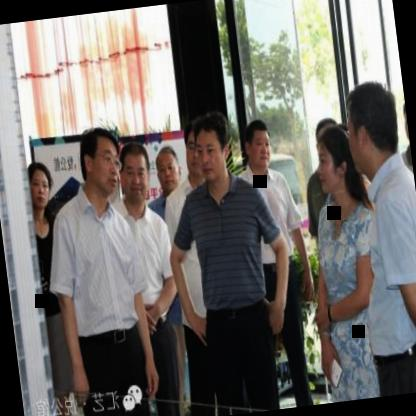head: (340, 74, 408, 180), (76, 119, 126, 200), (190, 102, 235, 188), (310, 116, 356, 197), (115, 138, 158, 210), (22, 154, 58, 221), (240, 114, 276, 174), (151, 140, 185, 197), (178, 121, 207, 183)
